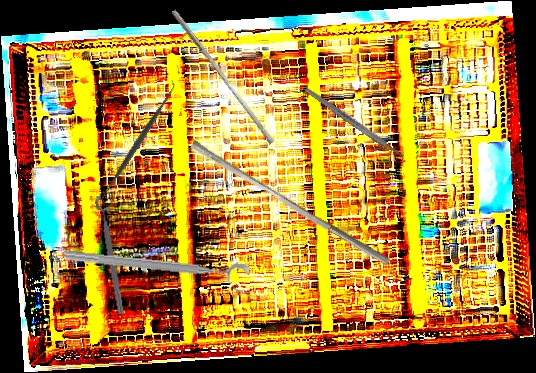Fixation Ring: (61, 245, 251, 295), (94, 193, 134, 316)
Pusher: (185, 139, 396, 267), (165, 9, 280, 145)
Scalpel Handle: (304, 86, 405, 160)
Spatula Surgical: (92, 79, 184, 208)
